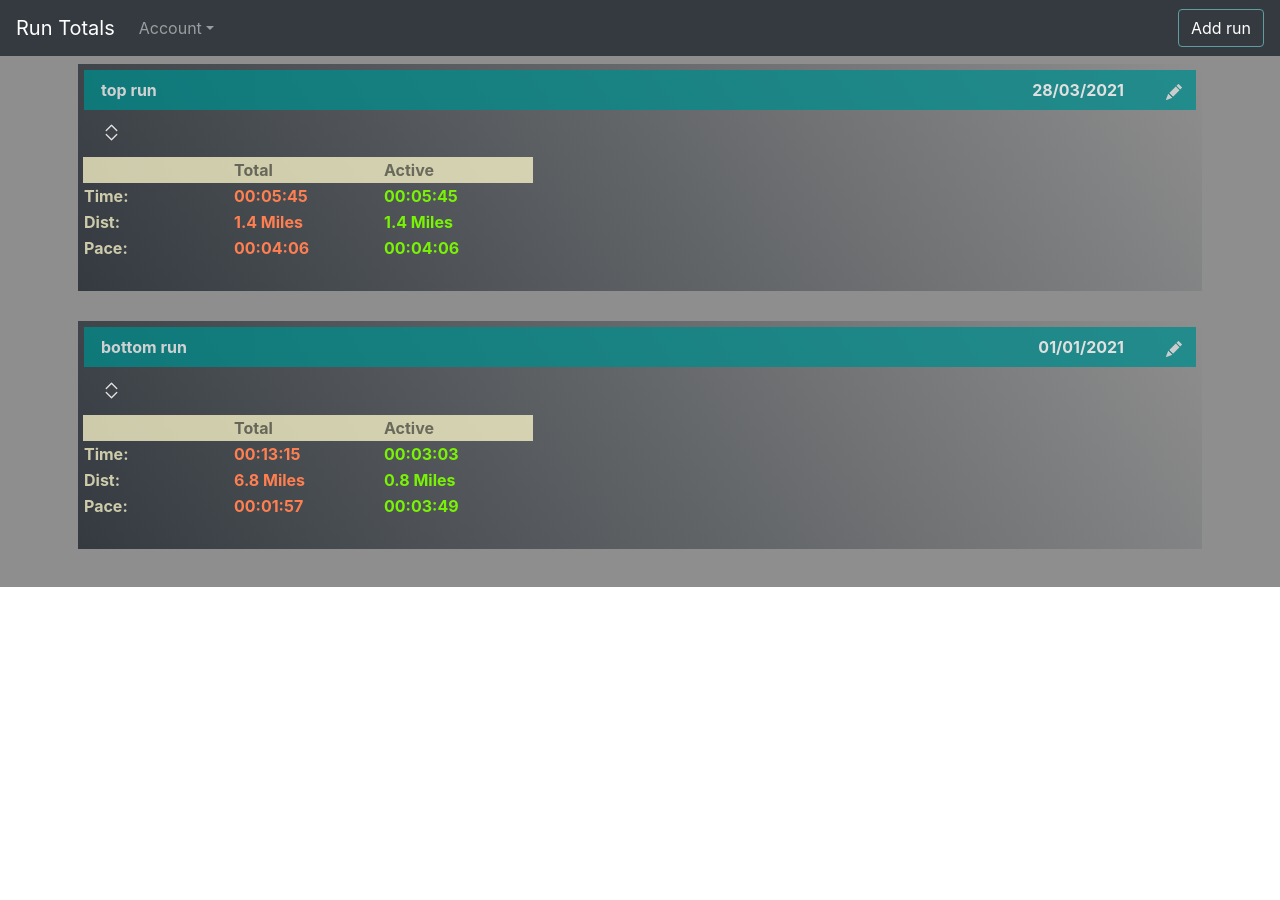
Test case: Runs Main: Edit run › Modal functionality › should open 'Edit Run' modal
Click the button named "Edit Run" next to "28/03/2021" at (1174, 90), box [1154, 72, 1194, 108]
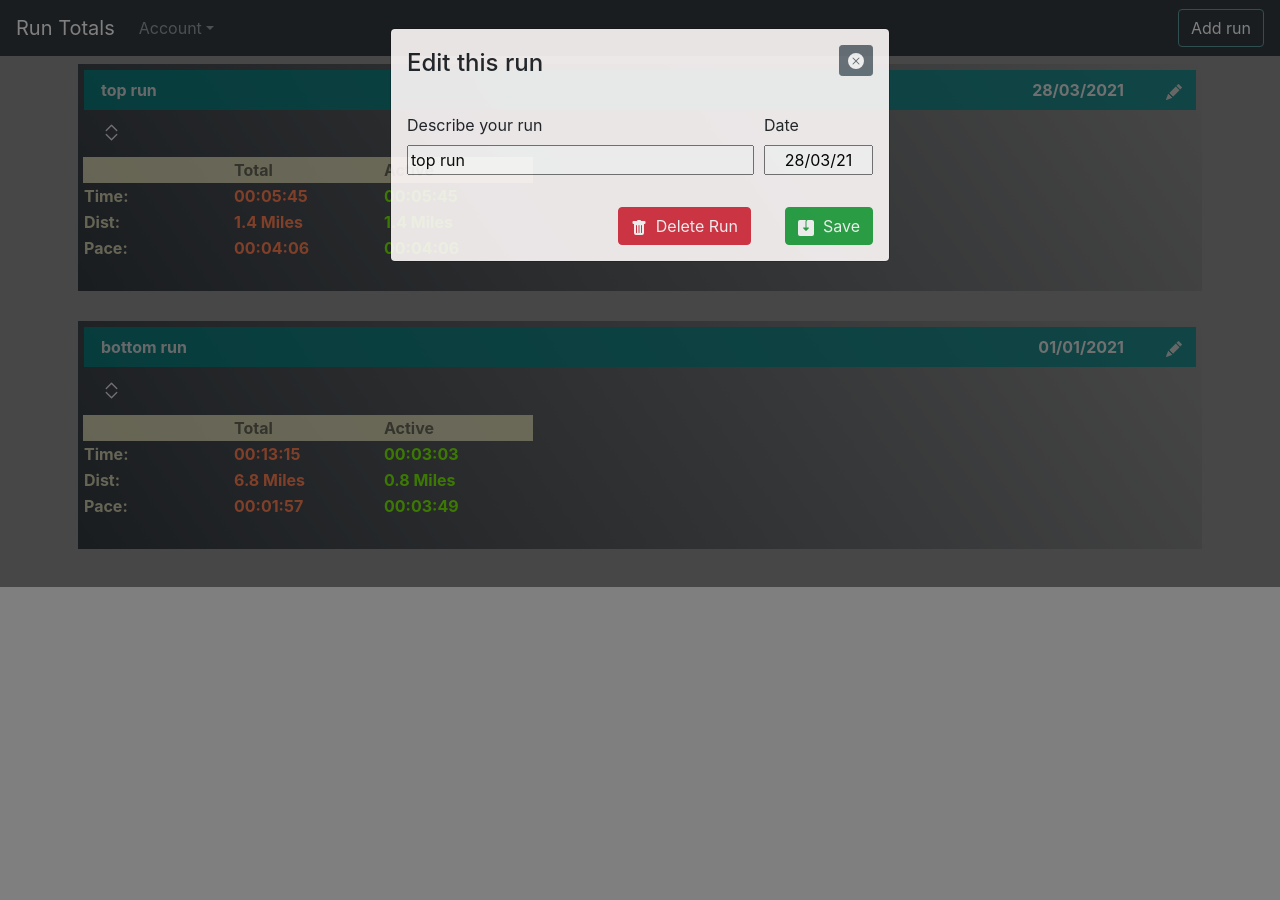
expect the element with test id "edit-run-modal" is shown: met, box [407, 45, 873, 77]
expect the text "Edit this run" is shown: met, box [407, 45, 543, 81]
